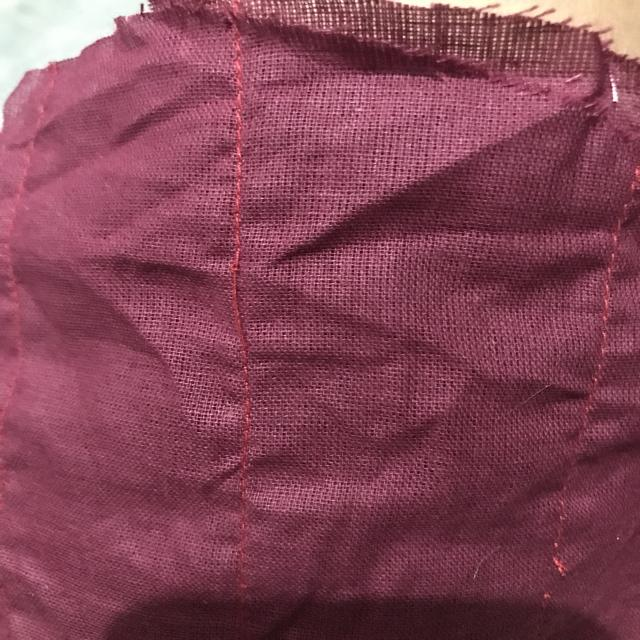skip: (200, 245, 271, 358)
